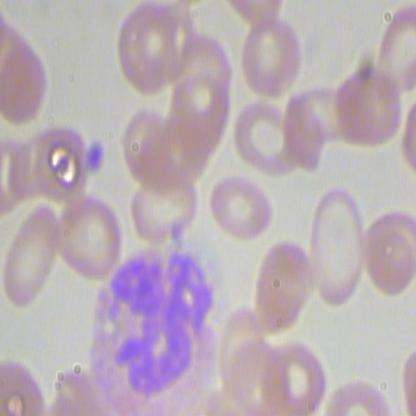Platelets: (82, 135, 108, 174)
RBC: (306, 186, 364, 314), (114, 2, 190, 98), (1, 201, 63, 316), (363, 184, 416, 310), (334, 65, 406, 153), (57, 188, 125, 281), (247, 237, 309, 337), (230, 100, 304, 177), (257, 339, 331, 415), (241, 15, 299, 107), (131, 168, 198, 245), (205, 175, 277, 239)
WBC: (86, 237, 231, 416)
